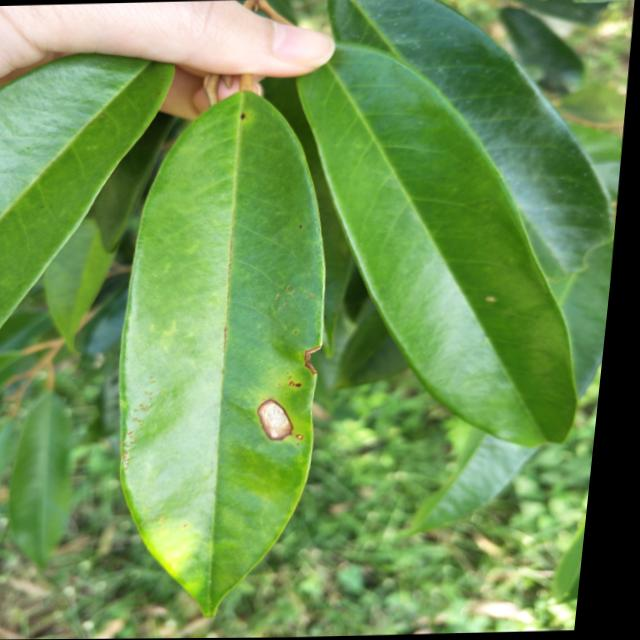Leaf Spot: (238, 395, 319, 458), (291, 339, 345, 385)
